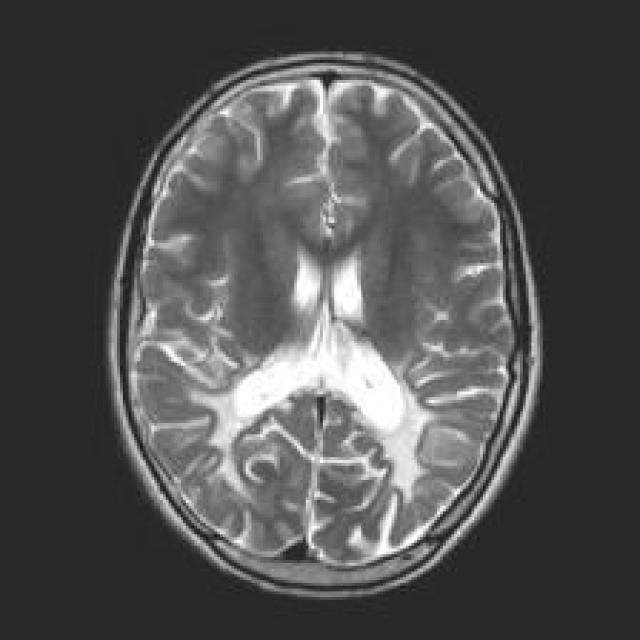no_tumor: (92, 38, 548, 608)
